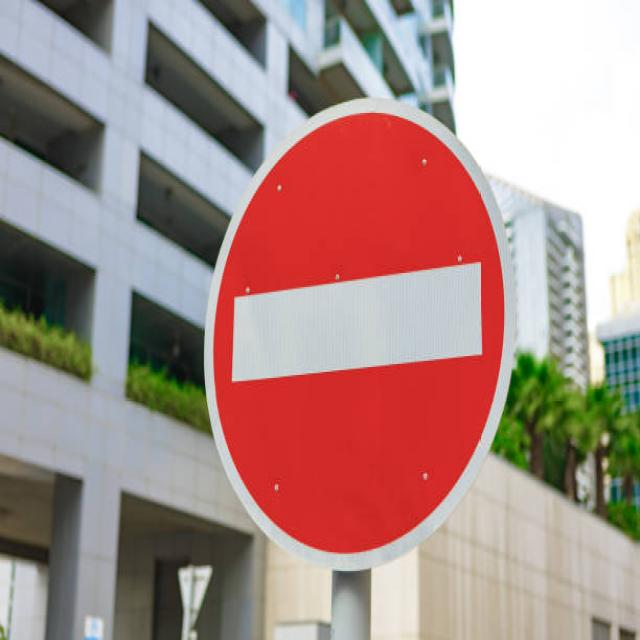do_not_enter: (193, 85, 518, 577)
